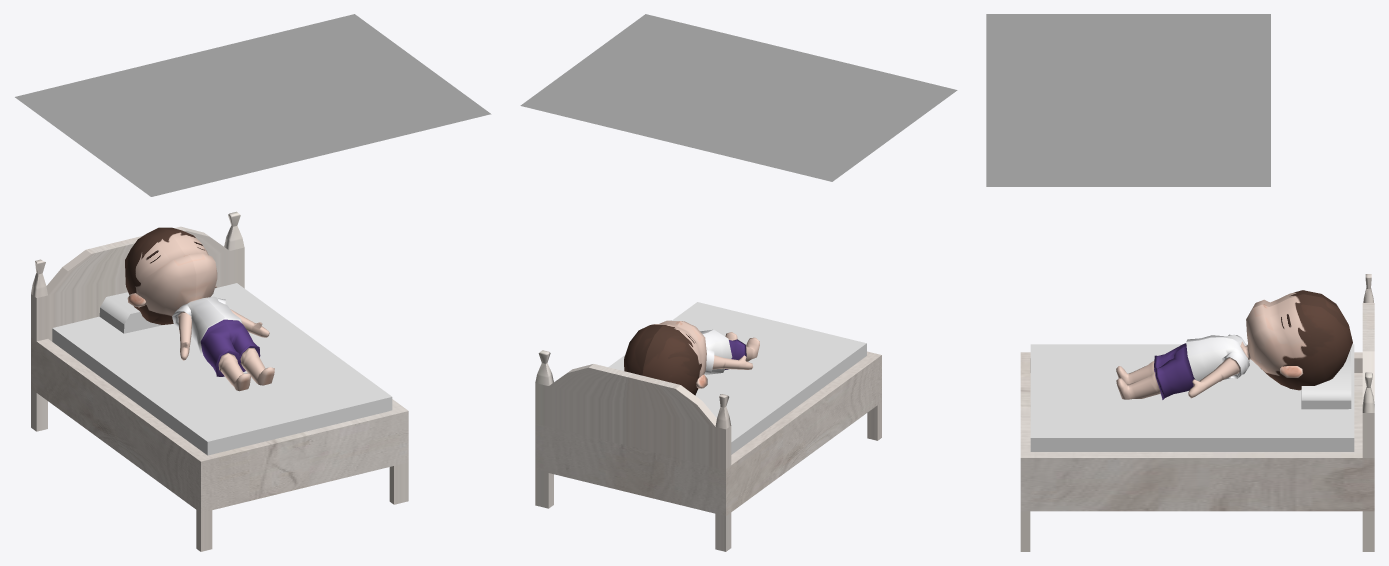
Rendered from Boy_Sleeping.fbx.
3 views of the same model, side by side, from view 1: azimuth 30°, elevation 25°; view 2: azimuth 150°, elevation 25°; view 3: azimuth 270°, elevation 25° (orthographic). The views are drawn at different scales.
Parts seen in each view (by area): view 1: pPlane1, polySurface2, polySurface1, boy2, polySurface3; view 2: pPlane1, polySurface2, polySurface1, boy2; view 3: pPlane1, polySurface2, polySurface1, boy2, polySurface3.
Part boxes in pixels (box(x1,y1,x2,y2)): pPlane1: box(15, 14, 491, 196); polySurface2: box(31, 211, 408, 551); polySurface1: box(52, 283, 392, 455); boy2: box(125, 227, 274, 391); polySurface3: box(99, 292, 162, 333); pPlane1: box(520, 14, 957, 181); polySurface2: box(535, 350, 881, 551); polySurface1: box(608, 302, 866, 454); boy2: box(624, 320, 759, 395); pPlane1: box(986, 14, 1270, 186); polySurface2: box(1020, 274, 1374, 551); polySurface1: box(1030, 344, 1354, 451); boy2: box(1116, 290, 1352, 399); polySurface3: box(1301, 350, 1351, 409).
Size of the model in its own units: 4.98 by 5.35 by 4.73.
